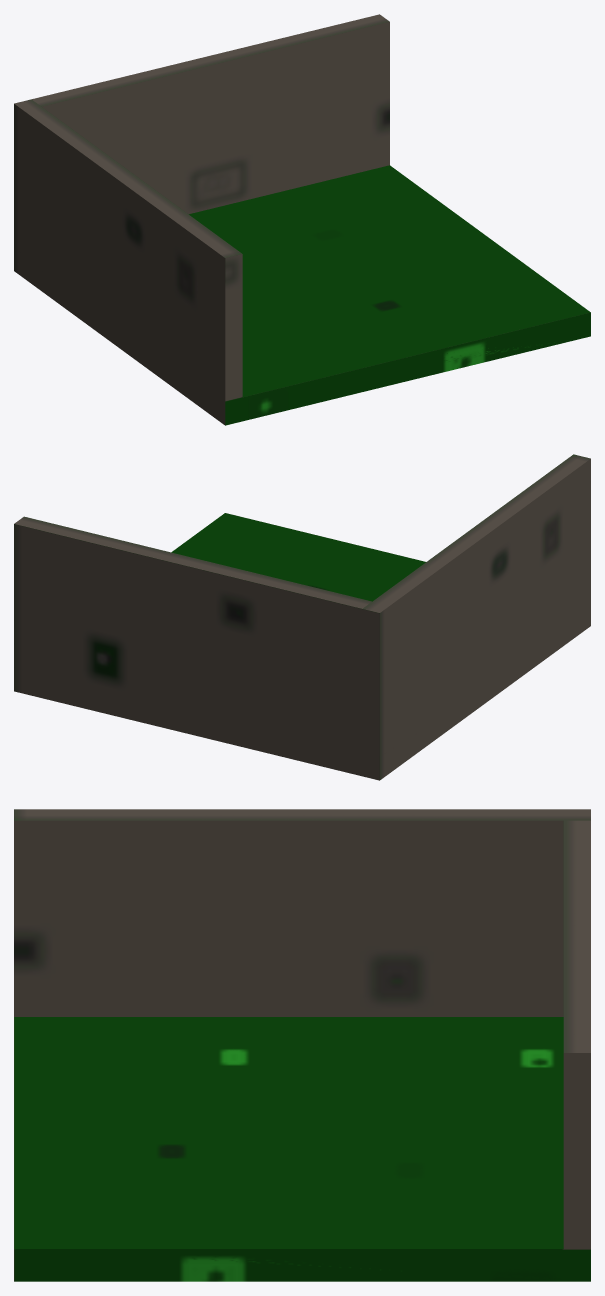
The model's file is yard_8x8_with_corner_00.glb.
3 renders of one model, top to bottom at view 1: azimuth 30°, elevation 25°; view 2: azimuth 150°, elevation 25°; view 3: azimuth 270°, elevation 25°, orthographic. The views are drawn at different scales.
Visible parts, largest first — view 1: Plane; view 2: Plane; view 3: Plane.
Boxes of the visible parts, x1=… form: Plane: x1=14, y1=14, x2=590, y2=425; Plane: x1=14, y1=454, x2=590, y2=780; Plane: x1=14, y1=809, x2=590, y2=1281.
Bounding box in the file's own units: 8 × 3.5 × 8.
Materials: 1 (1 with a texture image).
